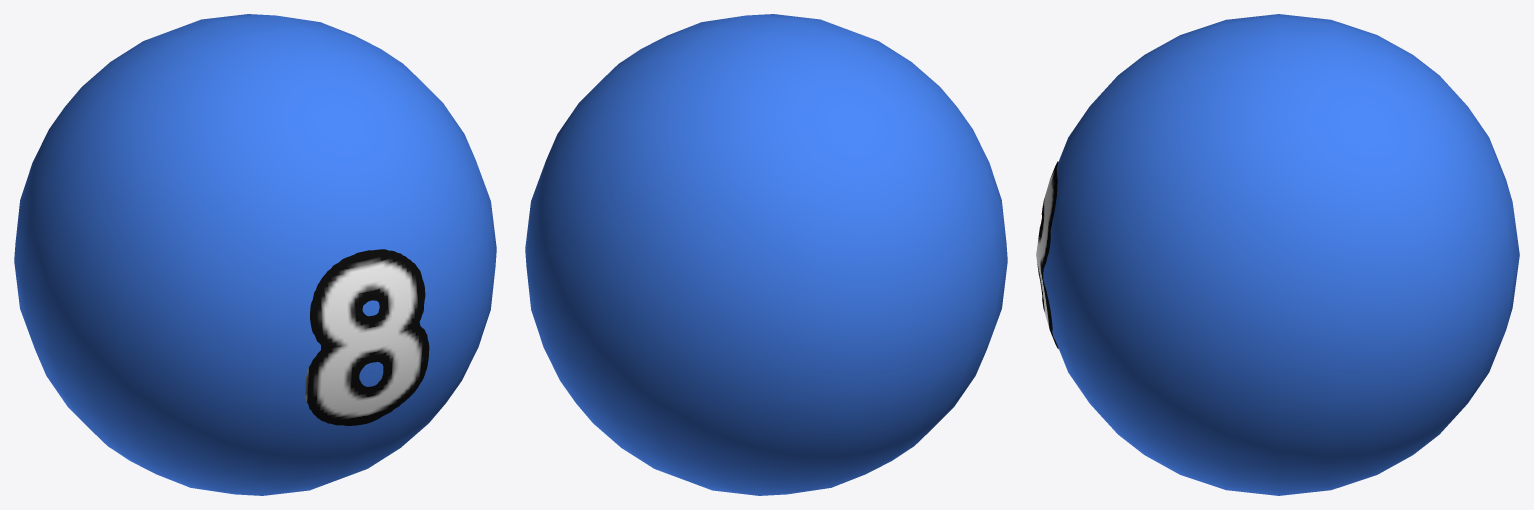
File: Ball 8.fbx
The picture shows the model from 3 angles, left to right: view 1: azimuth 30°, elevation 25°; view 2: azimuth 150°, elevation 25°; view 3: azimuth 270°, elevation 25°; orthographic projection.
Parts seen in each view (by area): view 1: Ball 8; view 2: Ball 8; view 3: Ball 8.
Boxes of the visible parts, x1,y1,x2,y2 form: Ball 8: (14, 14, 496, 495); Ball 8: (525, 14, 1007, 495); Ball 8: (1036, 14, 1519, 495).
Size of the model in its own units: 164 by 164 by 164.
